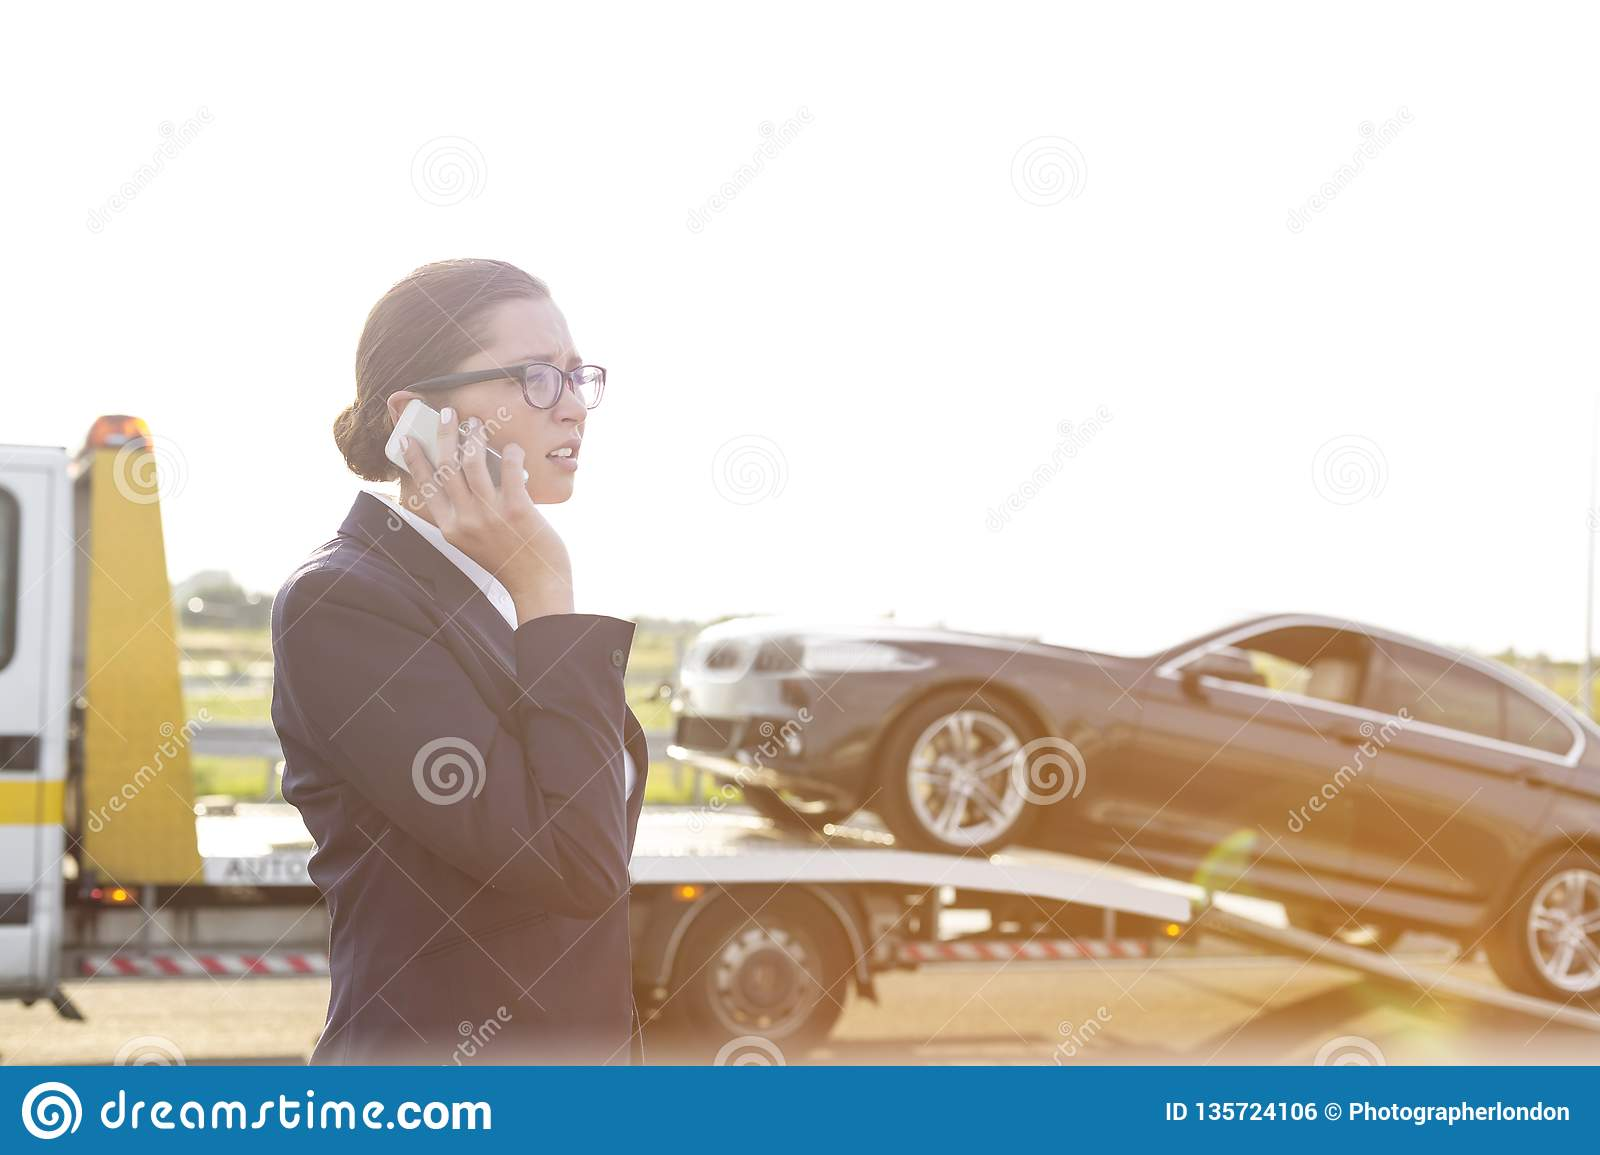phone: (388, 399, 534, 527)
talk: (386, 337, 596, 604)
